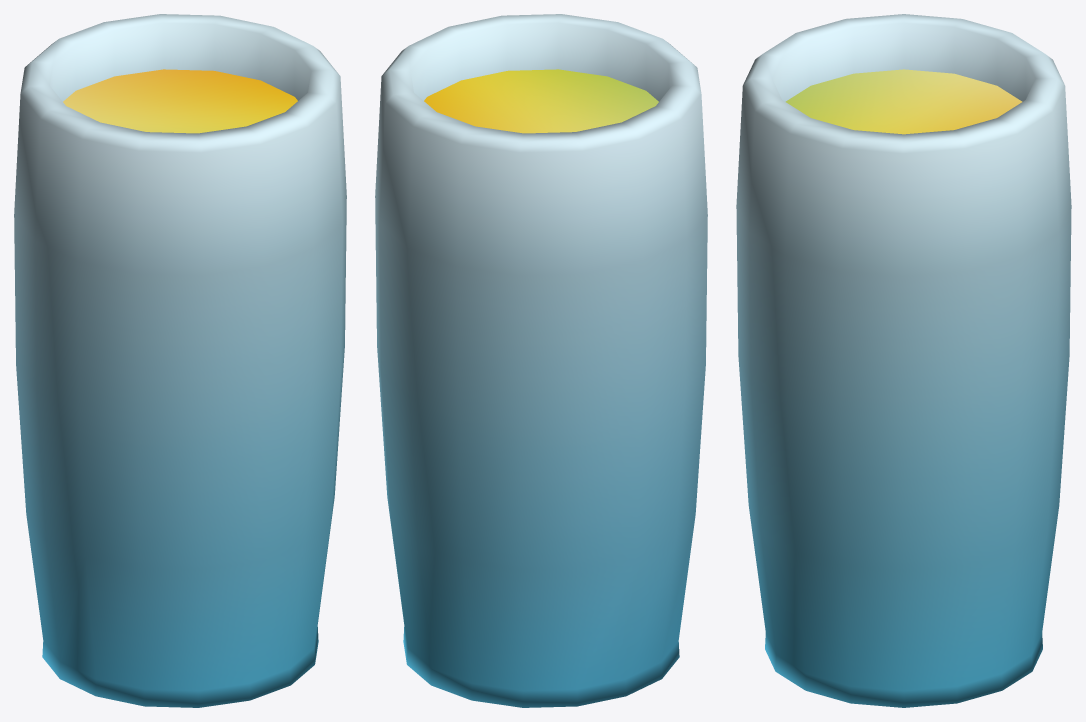
File: juice_001.fbx
The picture shows the model from 3 angles, left to right: view 1: azimuth 30°, elevation 25°; view 2: azimuth 150°, elevation 25°; view 3: azimuth 270°, elevation 25°; orthographic projection.
Visible parts, largest first — view 1: juice_001; view 2: juice_001; view 3: juice_001.
Part boxes in pixels (x1,y1,x2,y2): juice_001: [14, 14, 346, 707]; juice_001: [375, 14, 707, 707]; juice_001: [736, 14, 1071, 707].
Size of the model in its own units: 8.94 by 8.94 by 16.79.
